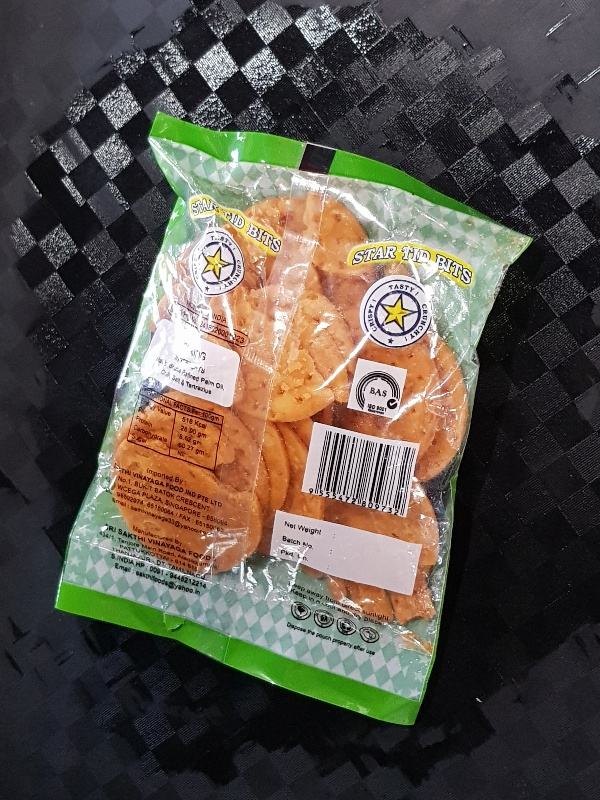Star Tidbits 'O' Ring: (52, 108, 535, 727)
